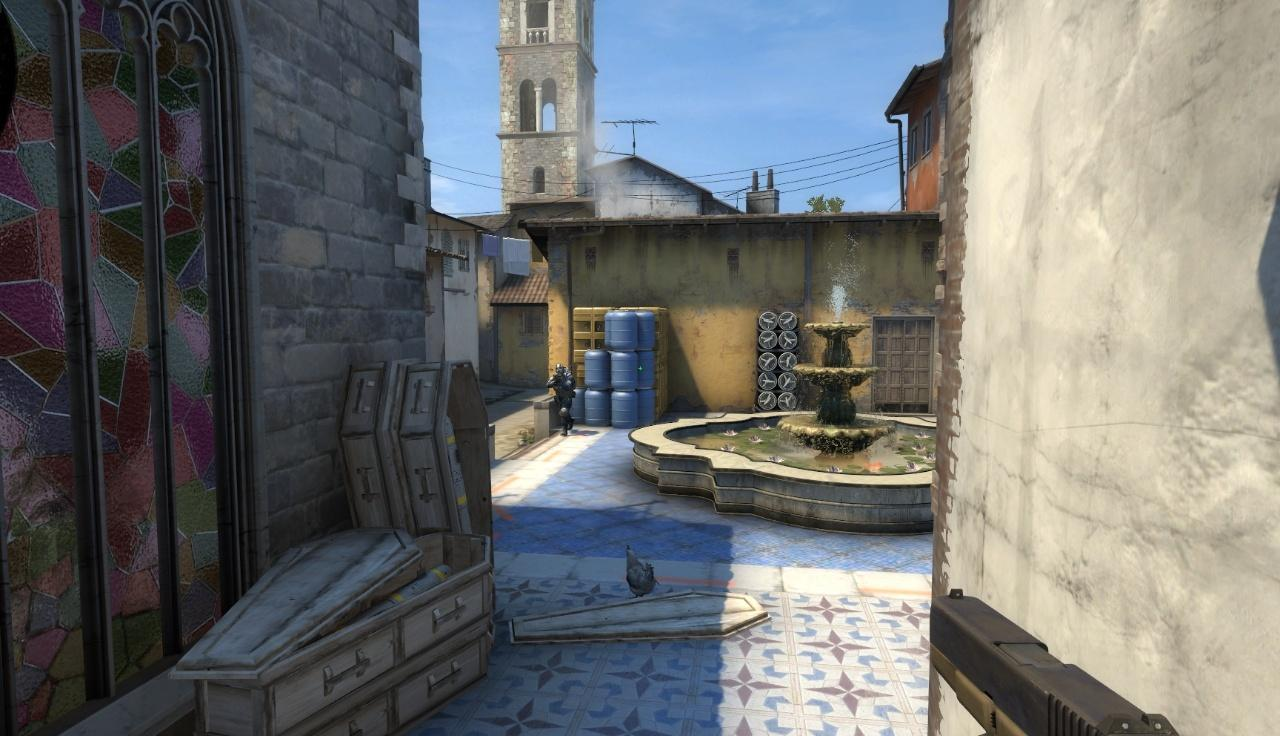ct: (547, 363, 576, 437)
cthead: (555, 363, 566, 375)
pistol: (929, 585, 1186, 736)
